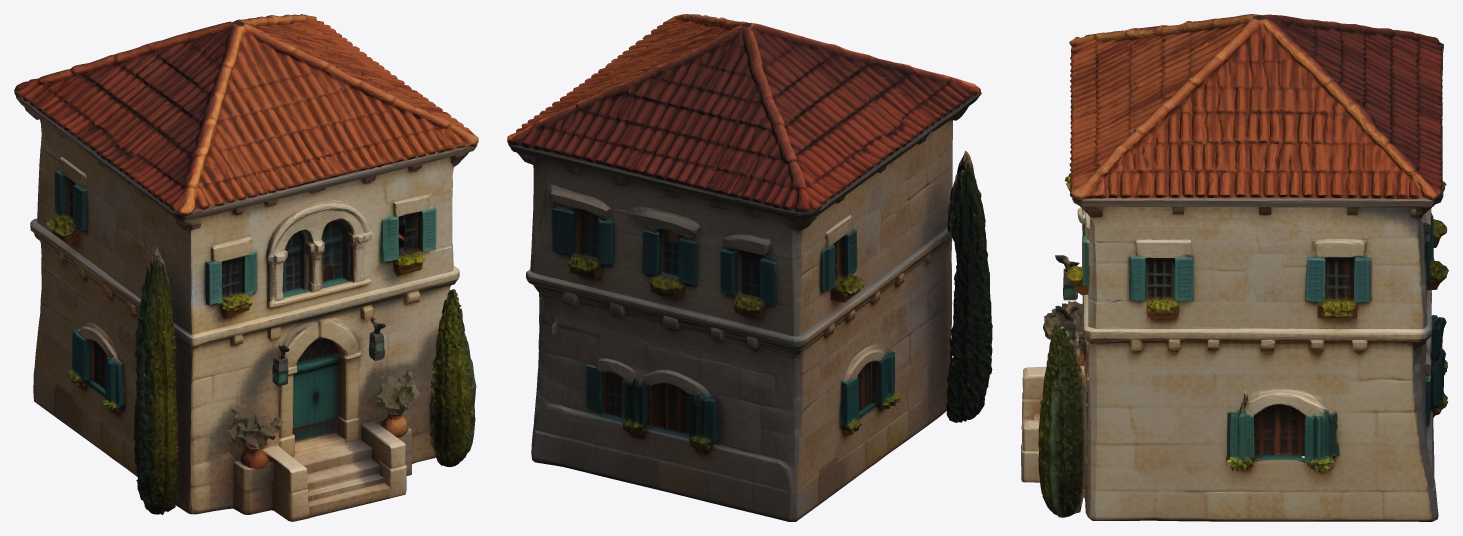
The model's file is old_house_nazareth.glb.
3 views of the same model, side by side, from view 1: azimuth 30°, elevation 25°; view 2: azimuth 150°, elevation 25°; view 3: azimuth 270°, elevation 25° (orthographic). The views are drawn at different scales.
Parts seen in each view (by area): view 1: world; view 2: world; view 3: world.
Part boxes in pixels (x1=…): world: x1=14, y1=14, x2=478, y2=521; world: x1=507, y1=14, x2=992, y2=521; world: x1=1021, y1=14, x2=1448, y2=521.
Size of the model in its own units: 0.8511 by 1 by 0.8909.
Materials: 1 (1 with a texture image).
